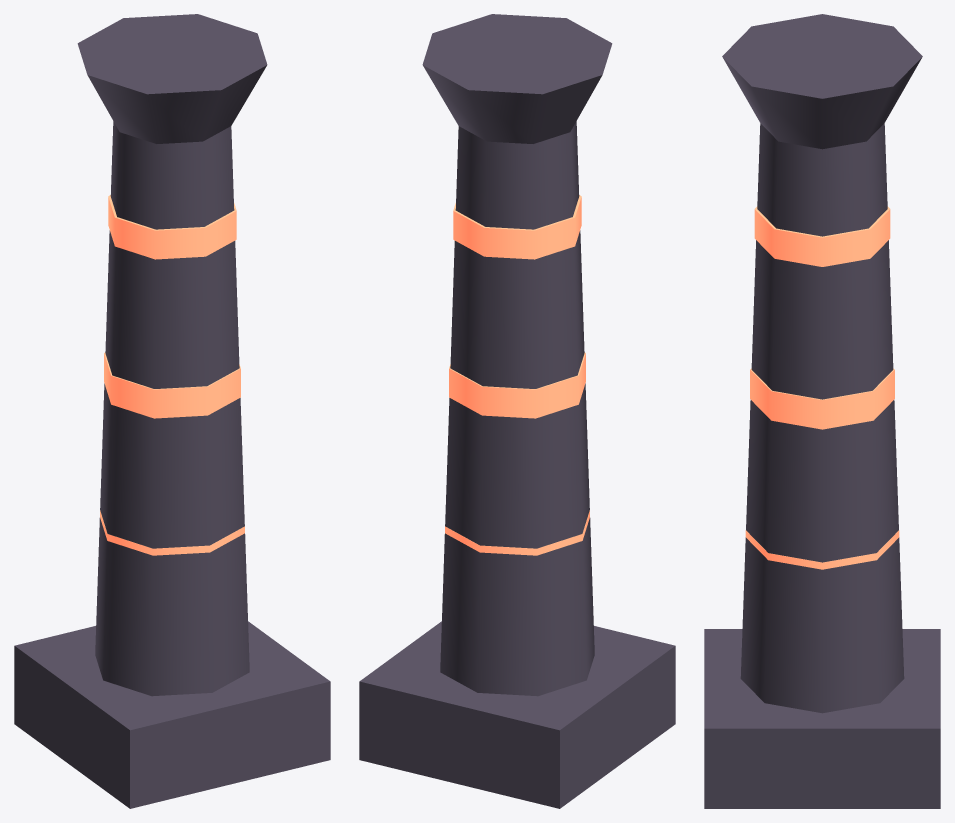
Rendered from hell_pillar.glb.
3 views of the same model, side by side, from view 1: azimuth 30°, elevation 25°; view 2: azimuth 150°, elevation 25°; view 3: azimuth 270°, elevation 25° (orthographic). The views are drawn at different scales.
Visible parts, largest first — view 1: ObsidianColumn, KarmicCrimsonRunes; view 2: ObsidianColumn, KarmicCrimsonRunes; view 3: ObsidianColumn, KarmicCrimsonRunes.
Boxes of the visible parts, x1,y1,x2,y2 form: ObsidianColumn: (14, 14, 330, 808); KarmicCrimsonRunes: (100, 195, 244, 555); ObsidianColumn: (359, 14, 675, 808); KarmicCrimsonRunes: (445, 195, 589, 555); ObsidianColumn: (704, 14, 940, 808); KarmicCrimsonRunes: (745, 206, 899, 569).
Bounding box in the file's own units: 1.6 × 5.25 × 1.6.
